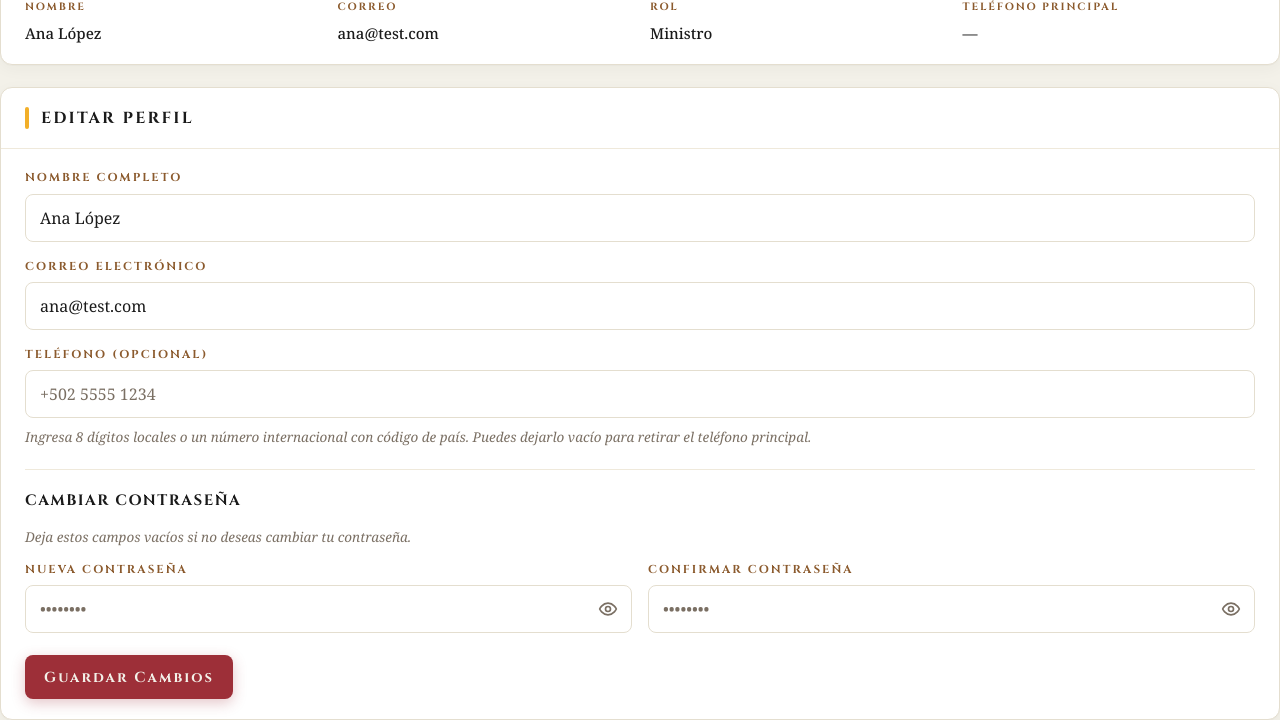
Test case: PerfilPage - avisos › confirma con un toast cuando el perfil se guarda
(page scrolled)
In the password field labelled "Nueva contraseña": [328, 609] box x1=25 y1=585 x2=632 y2=633, type "Clave-Segura-1"
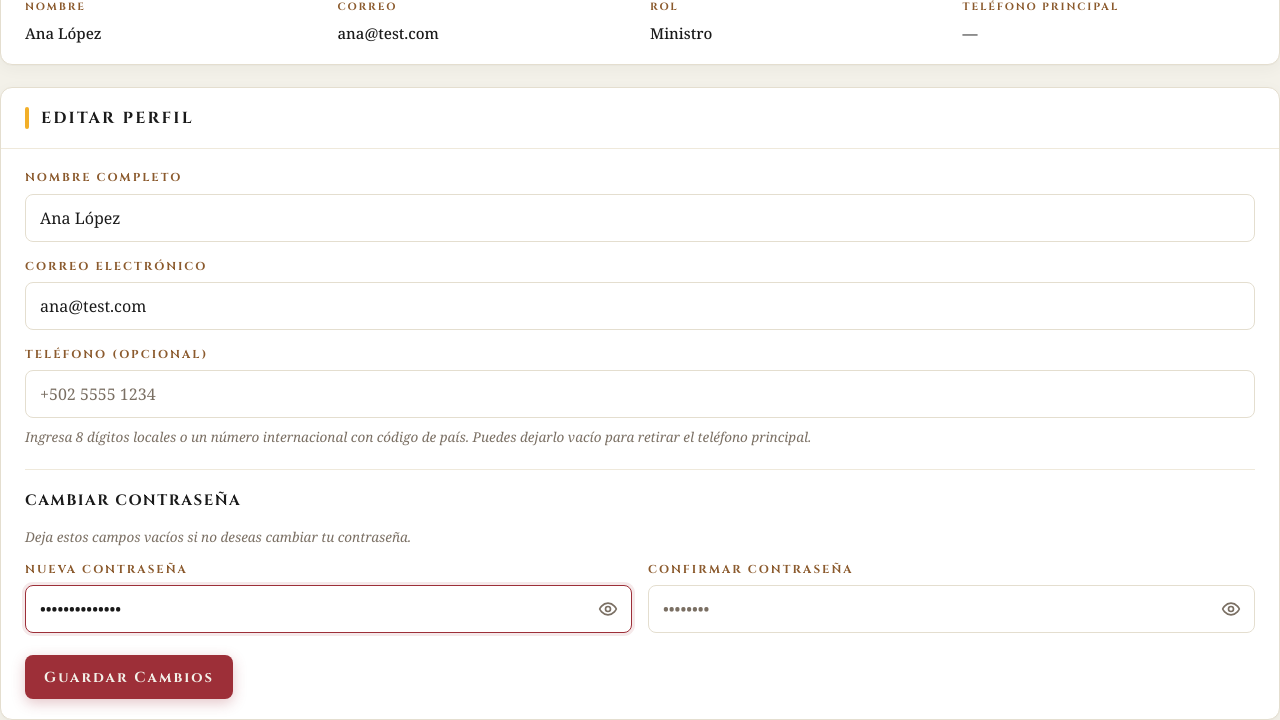
In the password field labelled "Confirmar contraseña": [952, 609] box x1=648 y1=585 x2=1255 y2=633, type "Clave-Segura-1"
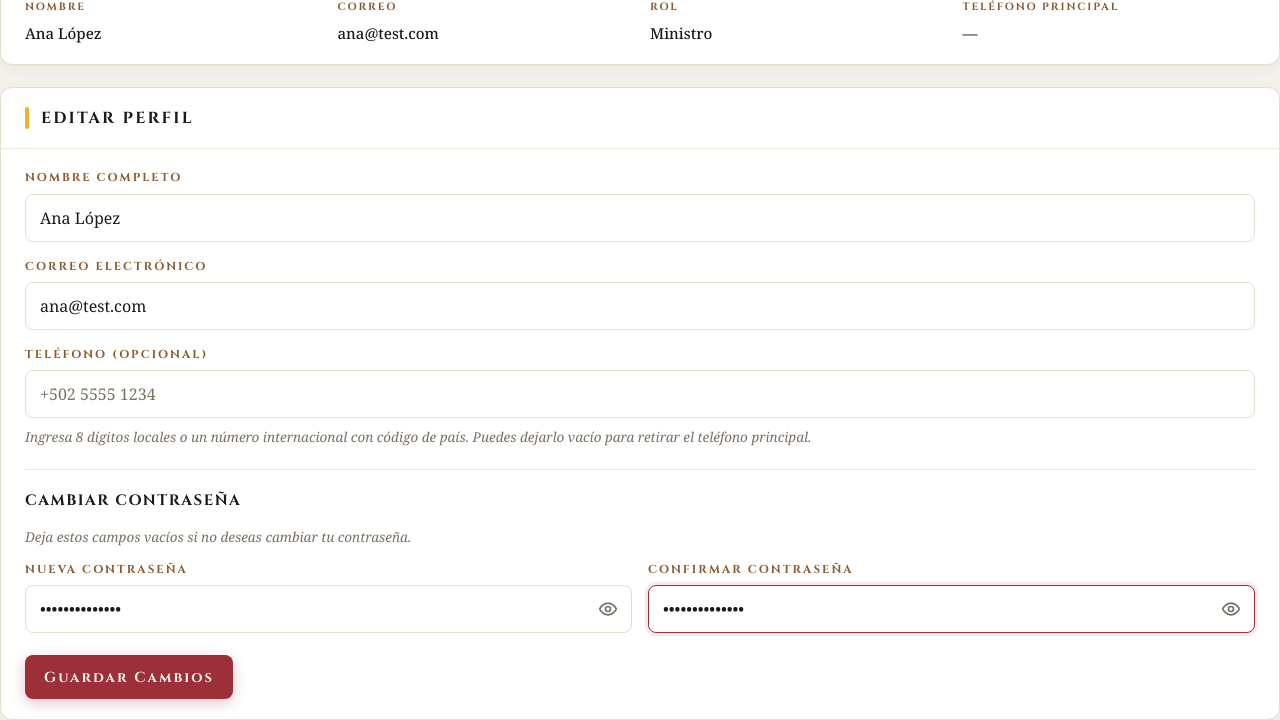
Click the 1st button named "Mostrar contraseña": [608, 609] box x1=586 y1=587 x2=630 y2=631
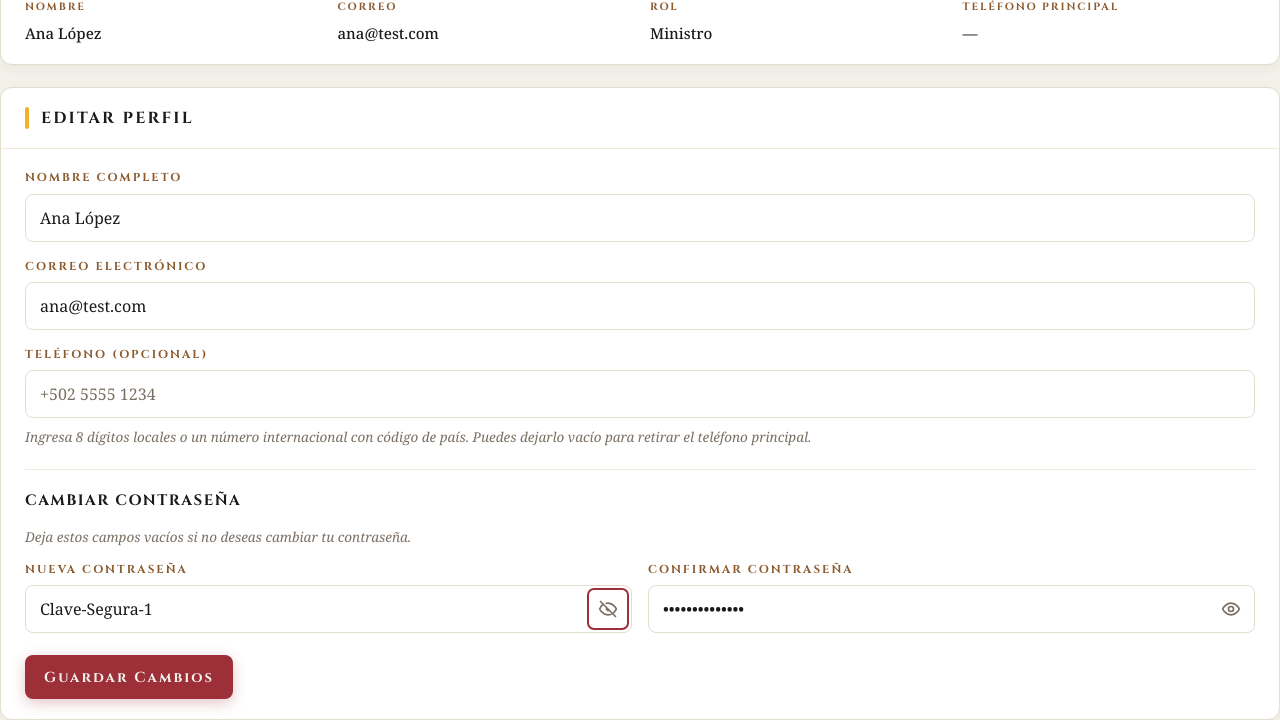
Expected: the field labelled "Nueva contraseña" shows its text, x1=25 y1=585 x2=632 y2=633
Click the button named "Mostrar contraseña": [1231, 609] box x1=1209 y1=587 x2=1253 y2=631
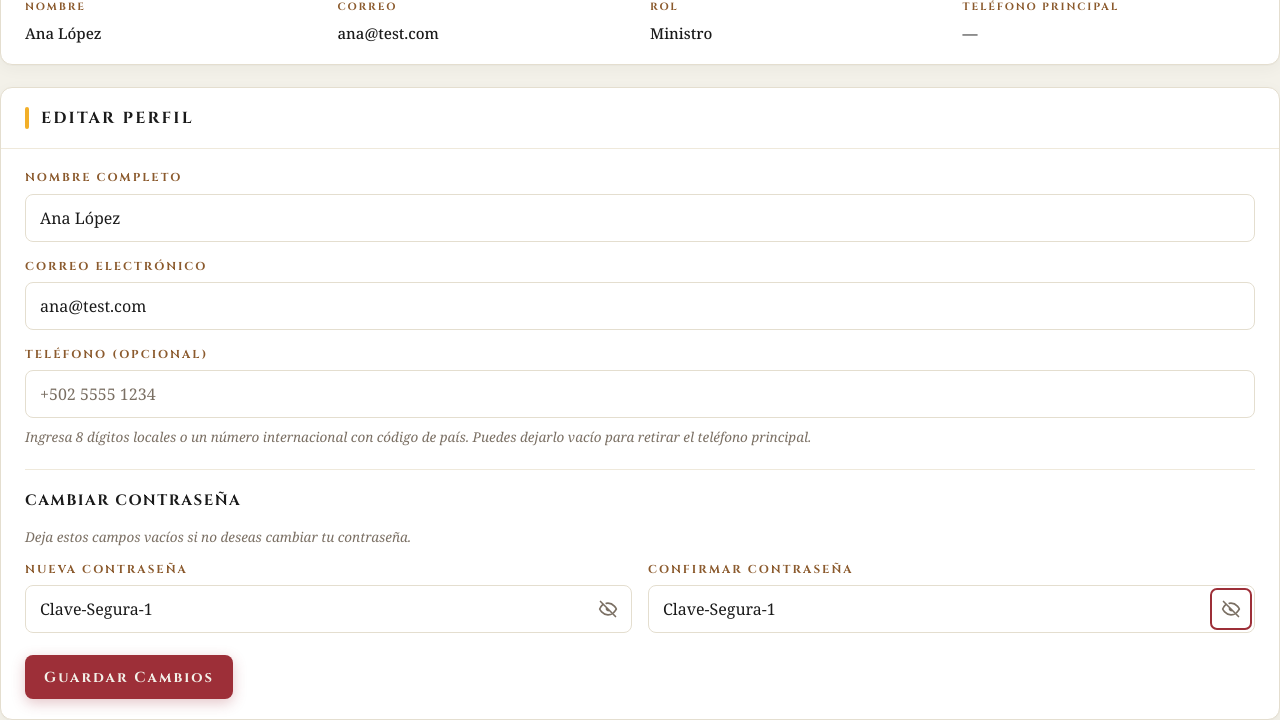
Expected: the field labelled "Confirmar contraseña" shows its text, x1=648 y1=585 x2=1255 y2=633
Click the button "Guardar Cambios": [129, 677] box x1=25 y1=655 x2=233 y2=699
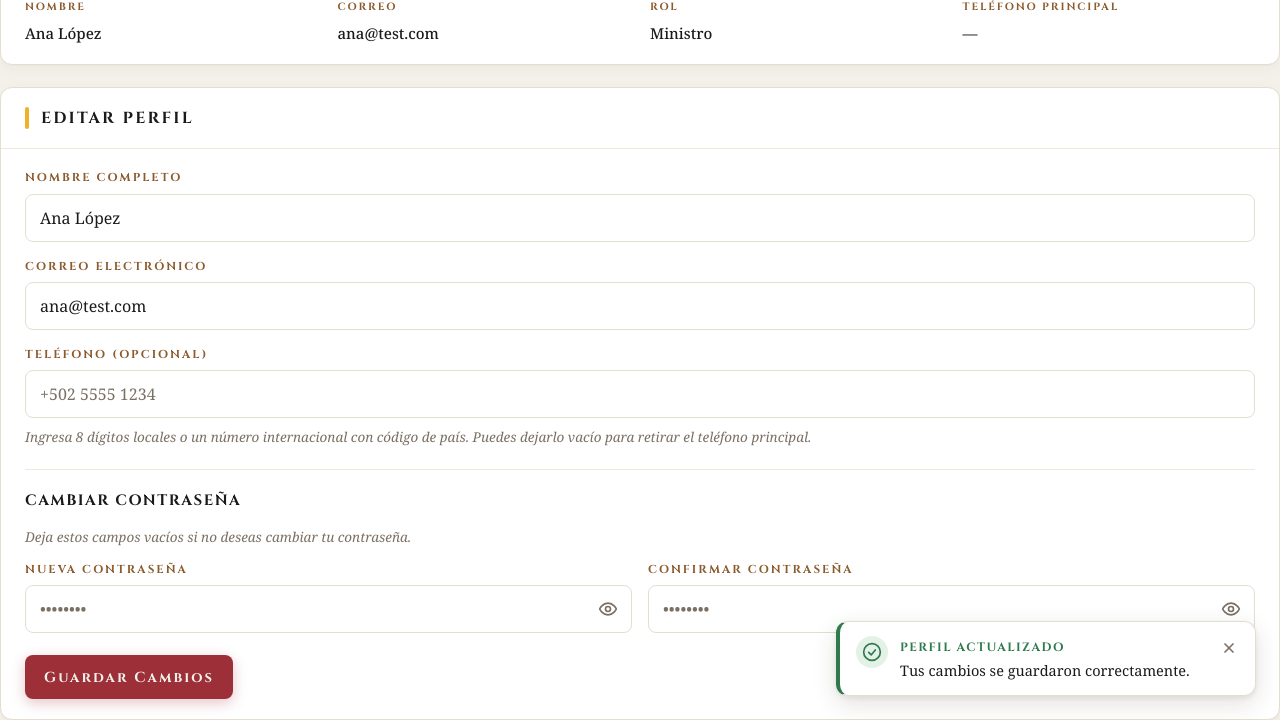
Expected: the message reads "Perfil actualizado Tus cambios se guardaron correctamente.", x1=836 y1=621 x2=1256 y2=696
Expected: the password field labelled "Nueva contraseña" is empty, x1=25 y1=585 x2=632 y2=633
Expected: the password field labelled "Confirmar contraseña" is empty, x1=648 y1=585 x2=1255 y2=633
